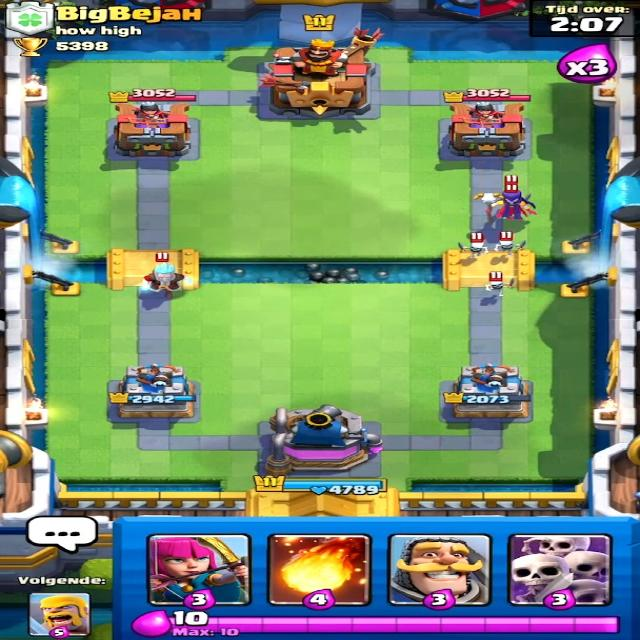Enemy_Ice_Wizard_Troop: (143, 260, 194, 299)
Enemy_Skeleton_Troop: (480, 274, 516, 297), (458, 237, 492, 257), (494, 233, 526, 254)
Enemy_Witch_Troop: (469, 192, 538, 225)
Fireball_Card: (272, 535, 368, 606)
